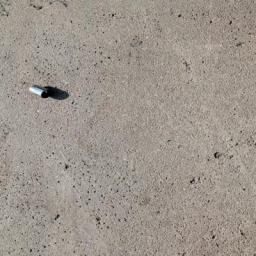FOD: (29, 81, 74, 103)
